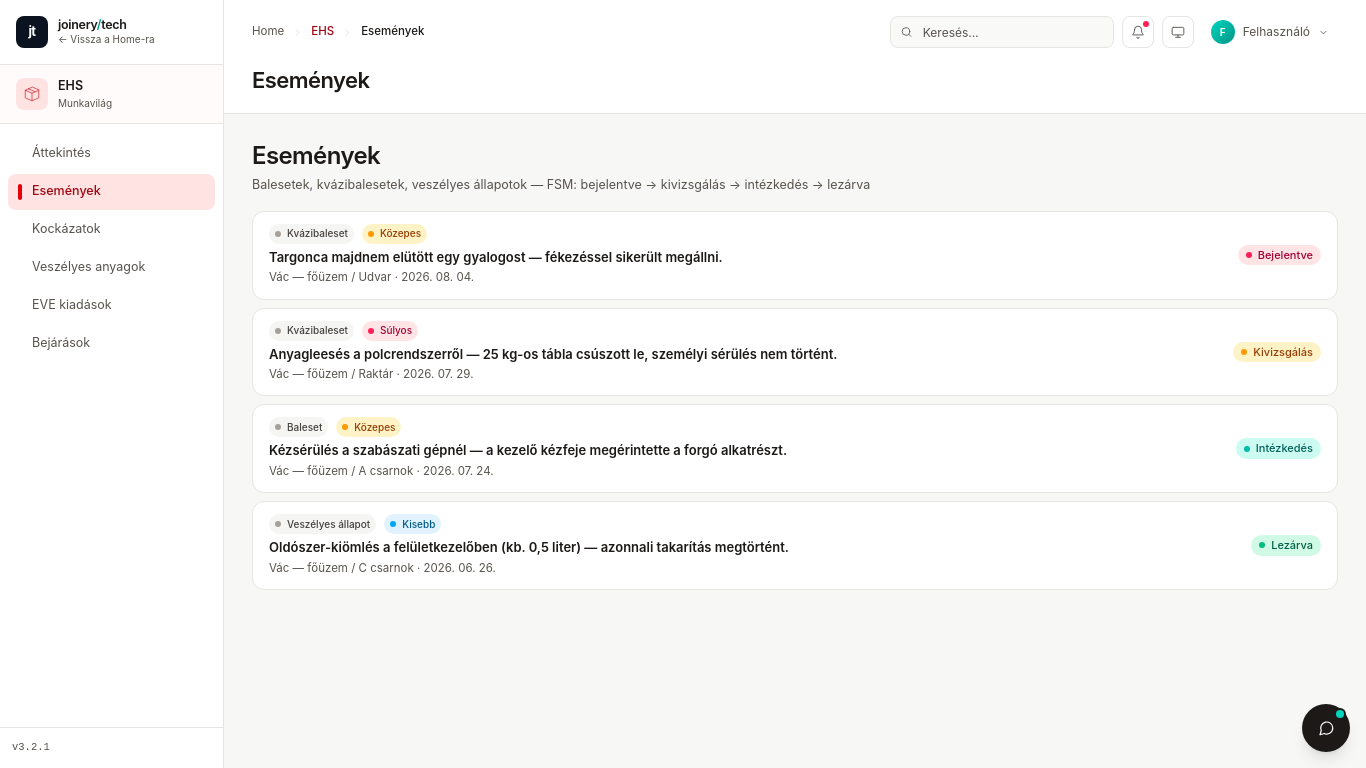
Scenario: EhsPage › clicking an incident opens the detail SlideOver with FSM actions
This screenshot has width=1366, height=768.
Click the text "Targonca majdnem elütött" at (496, 257), box [269,249,723,265]
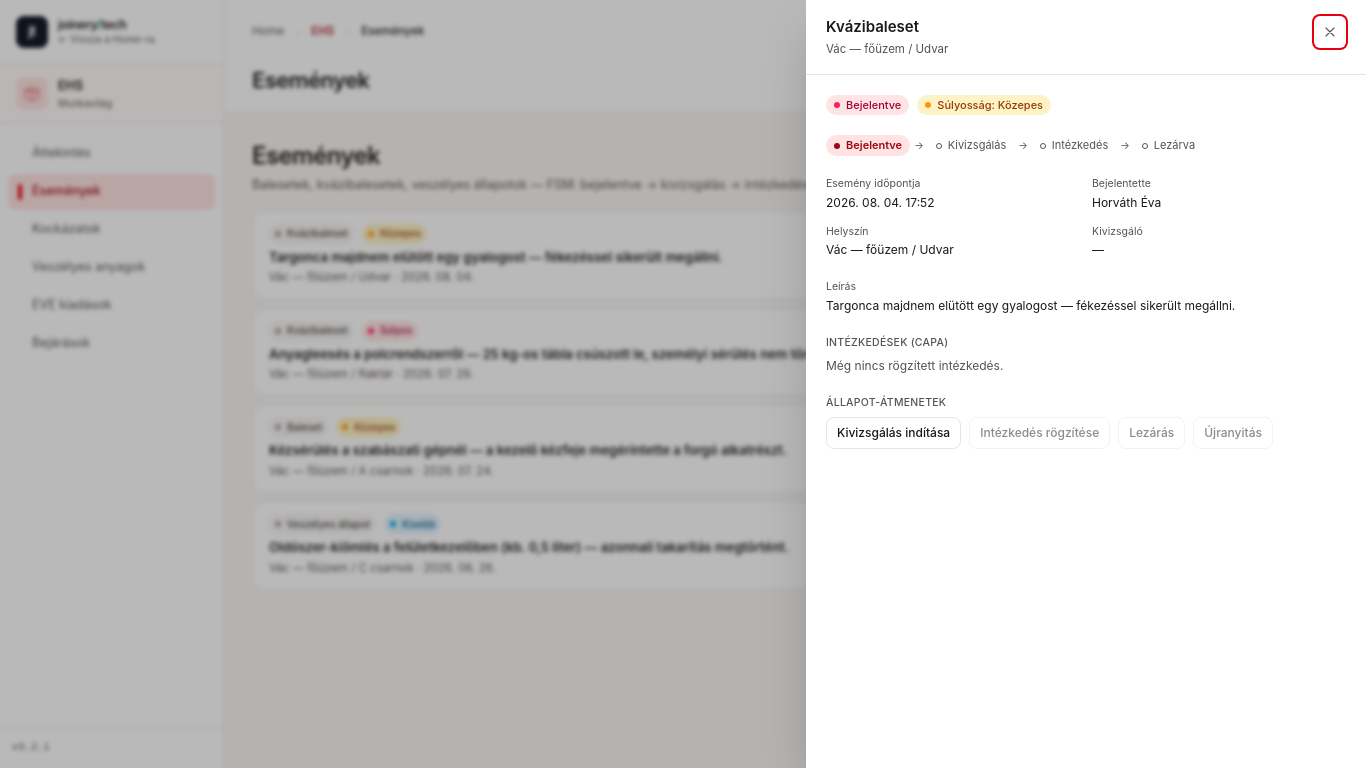
Expected: the button "Kivizsgálás indítása" is shown, [826,416,961,448]
